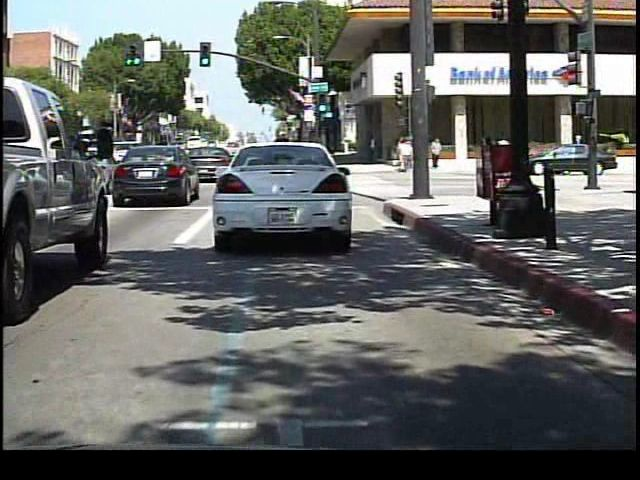person: (491, 134, 513, 174), (398, 136, 414, 177), (429, 135, 445, 170)
